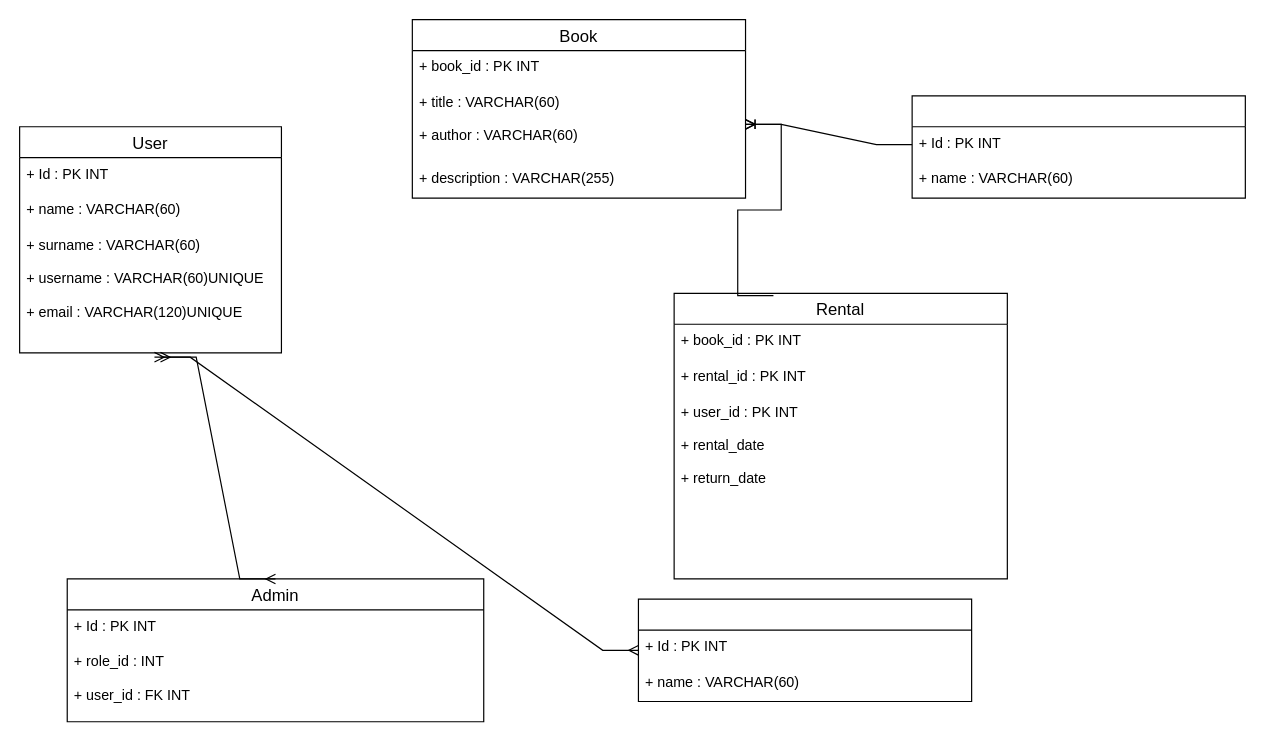
Image size: 1265x741. Some labels were removed from this diagram. The shapes that lost their labels are listed below. From the top down, each one's box as (x1, y1, x2, y2) in pixels, then its label:
(911, 95, 1245, 198): Category
(637, 598, 972, 702): Publisher
